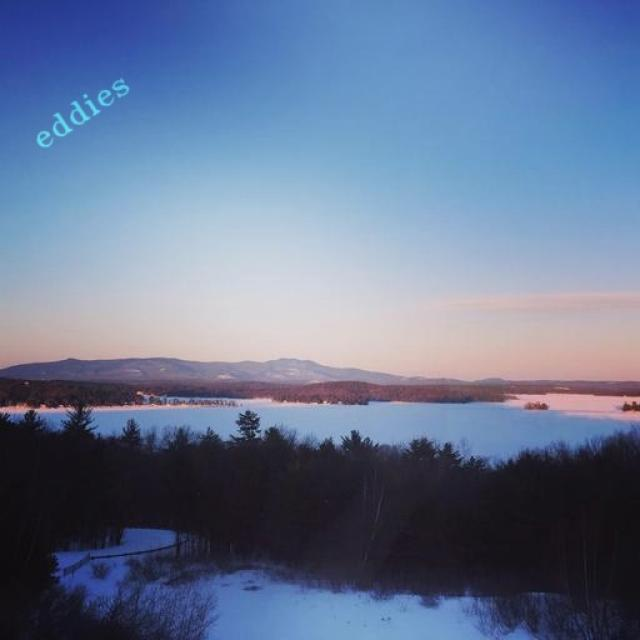watermark: (32, 64, 131, 156)
